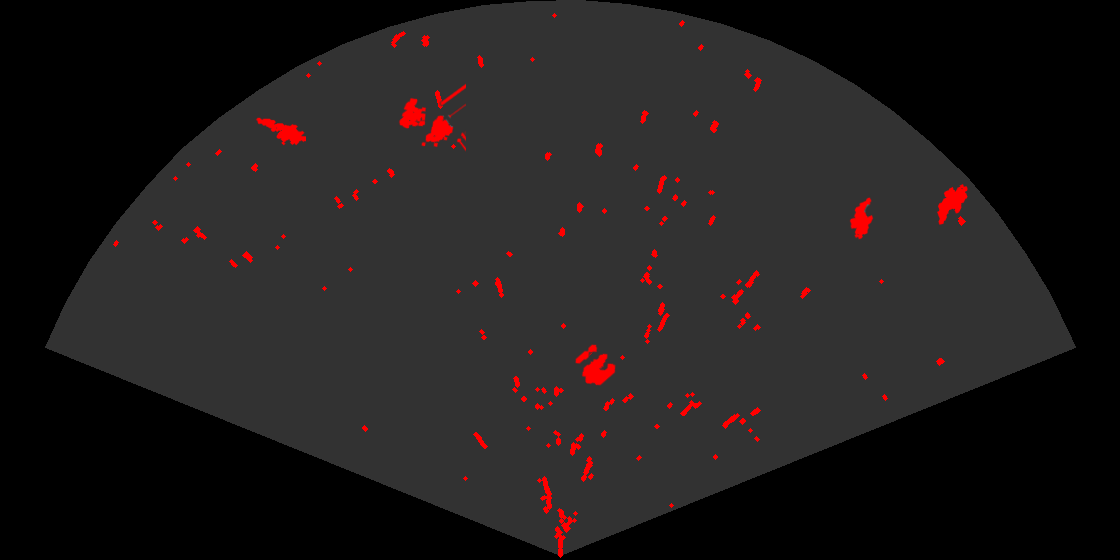AUV: (936, 182, 969, 226), (848, 196, 875, 241)
ball: (574, 343, 617, 387)
cage: (397, 82, 466, 153)
frogman: (255, 116, 306, 147)
